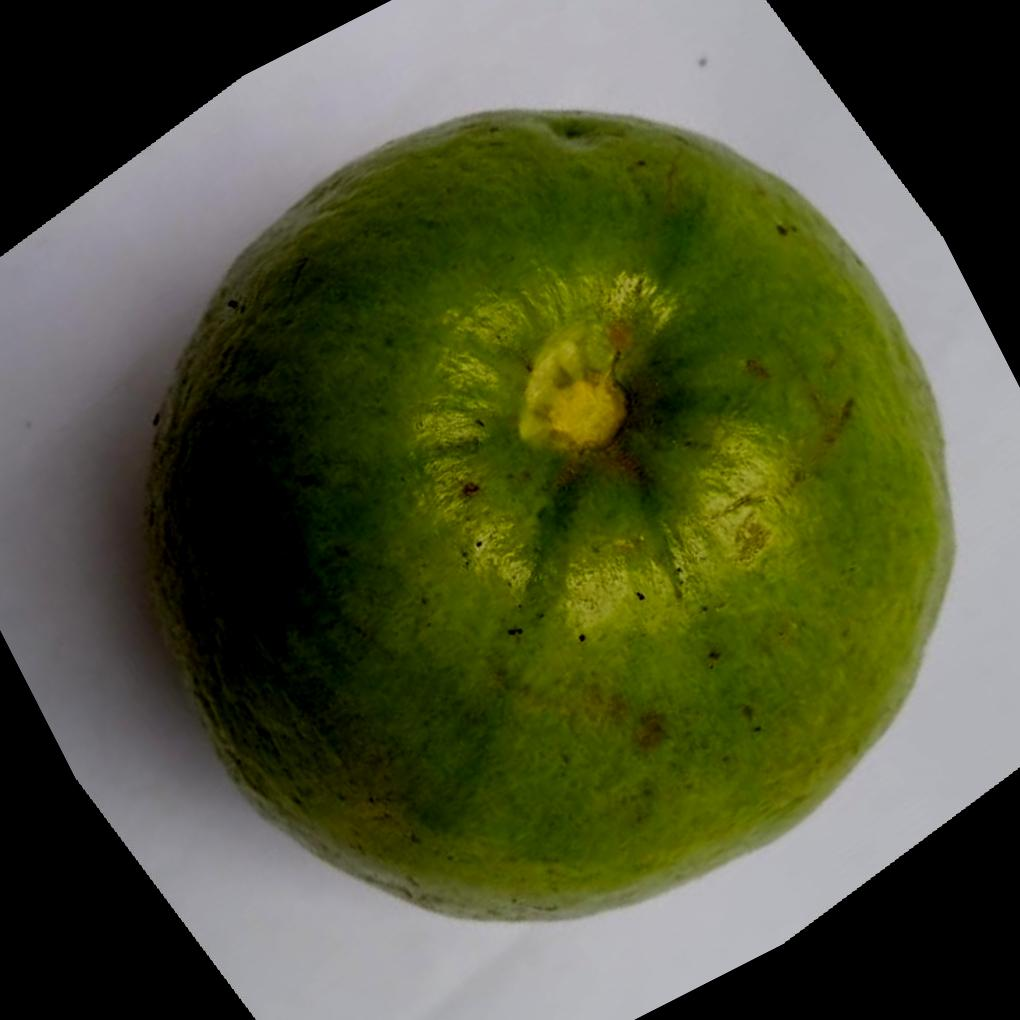FreshGuava: (140, 102, 954, 921)
